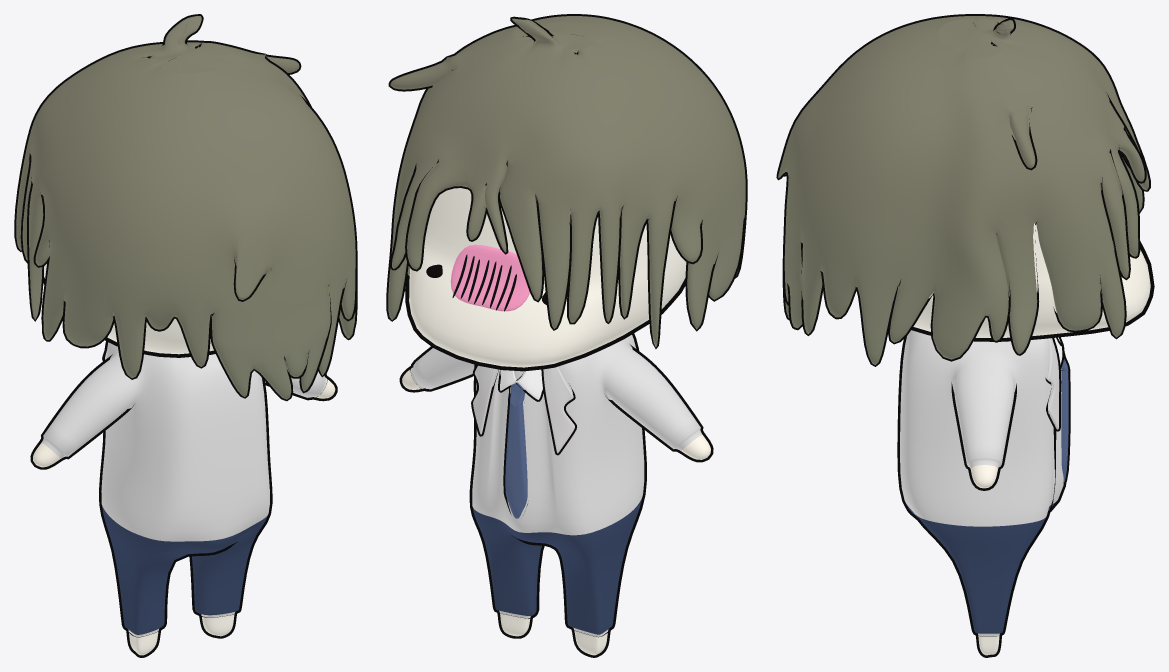
3 views of the same model, side by side, from view 1: azimuth 30°, elevation 25°; view 2: azimuth 150°, elevation 25°; view 3: azimuth 270°, elevation 25° (orthographic). The views are drawn at different scales.
Visible parts, largest first — view 1: Hairs_4, Uniform_1, Head_0; view 2: Hairs_4, Uniform_1, Head_0, Face_5, UniformFolds_2, Cravate_3; view 3: Hairs_4, Uniform_1, Head_0, UniformFolds_2, Cravate_3.
Boxes of the visible parts, x1=… form: Hairs_4: x1=14, y1=14, x2=357, y2=401; Uniform_1: x1=30, y1=341, x2=337, y2=657; Head_0: x1=43, y1=264, x2=215, y2=357; Hairs_4: x1=386, y1=14, x2=747, y2=348; Uniform_1: x1=399, y1=333, x2=713, y2=657; Head_0: x1=405, y1=188, x2=686, y2=371; Face_5: x1=426, y1=244, x2=546, y2=311; UniformFolds_2: x1=471, y1=365, x2=576, y2=455; Cravate_3: x1=503, y1=382, x2=527, y2=518; Hairs_4: x1=776, y1=14, x2=1150, y2=366; Uniform_1: x1=897, y1=330, x2=1067, y2=657; Head_0: x1=911, y1=223, x2=1154, y2=341; UniformFolds_2: x1=1045, y1=337, x2=1064, y2=431; Cravate_3: x1=1061, y1=349, x2=1070, y2=485.
Size of the model in its own units: 0.5305 by 1.03 by 0.5642.
Materials: 2 (1 with a texture image).
